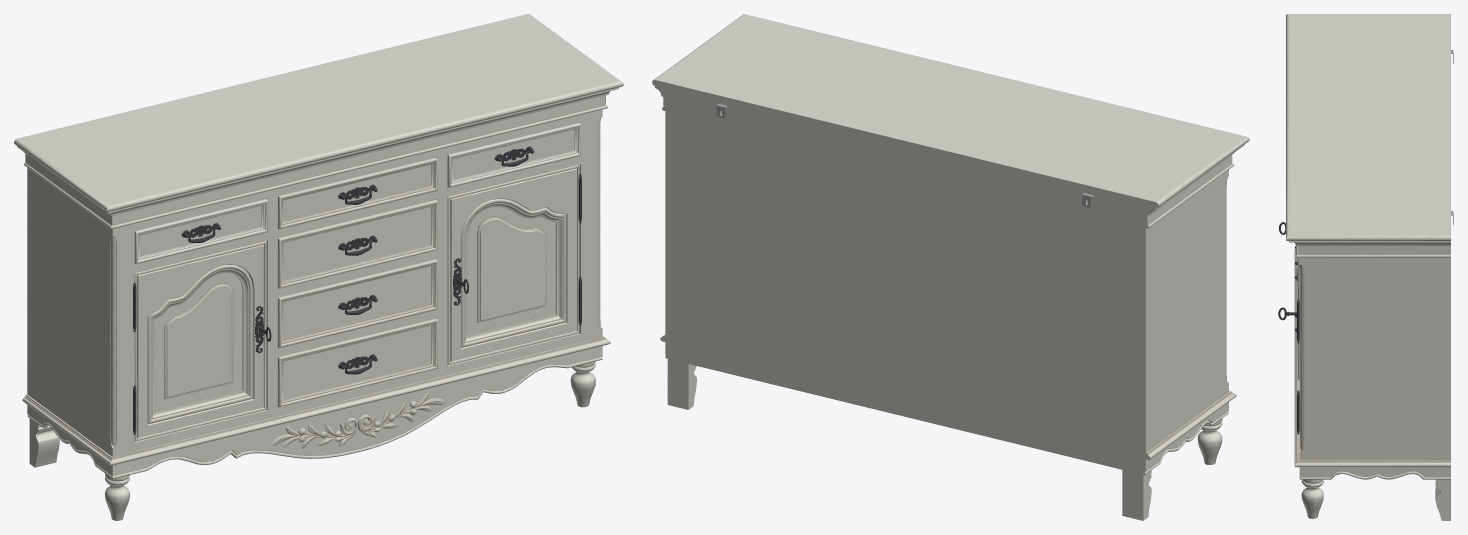
The model's file is example46.gltf.
The picture shows the model from 3 angles, left to right: view 1: azimuth 30°, elevation 25°; view 2: azimuth 150°, elevation 25°; view 3: azimuth 270°, elevation 25°; orthographic projection. The views are drawn at different scales.
Size of the model in its own units: 154 by 93.5 by 51.04.
Materials: 3 (2 with a texture image).
